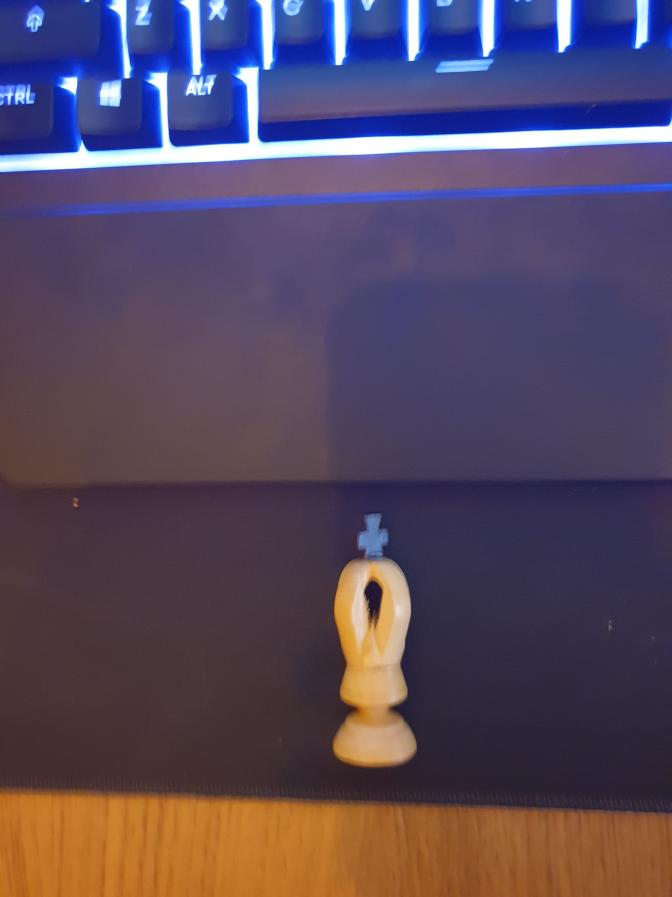wking: (330, 512, 419, 767)
